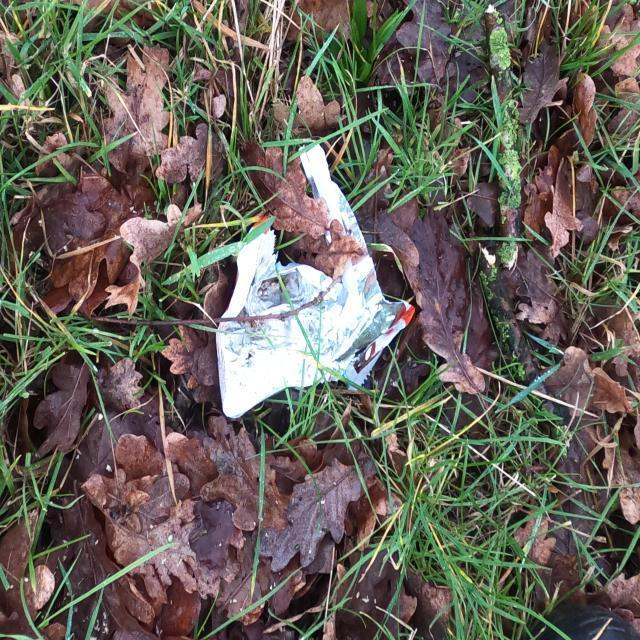Plastic: (220, 202, 393, 404)
